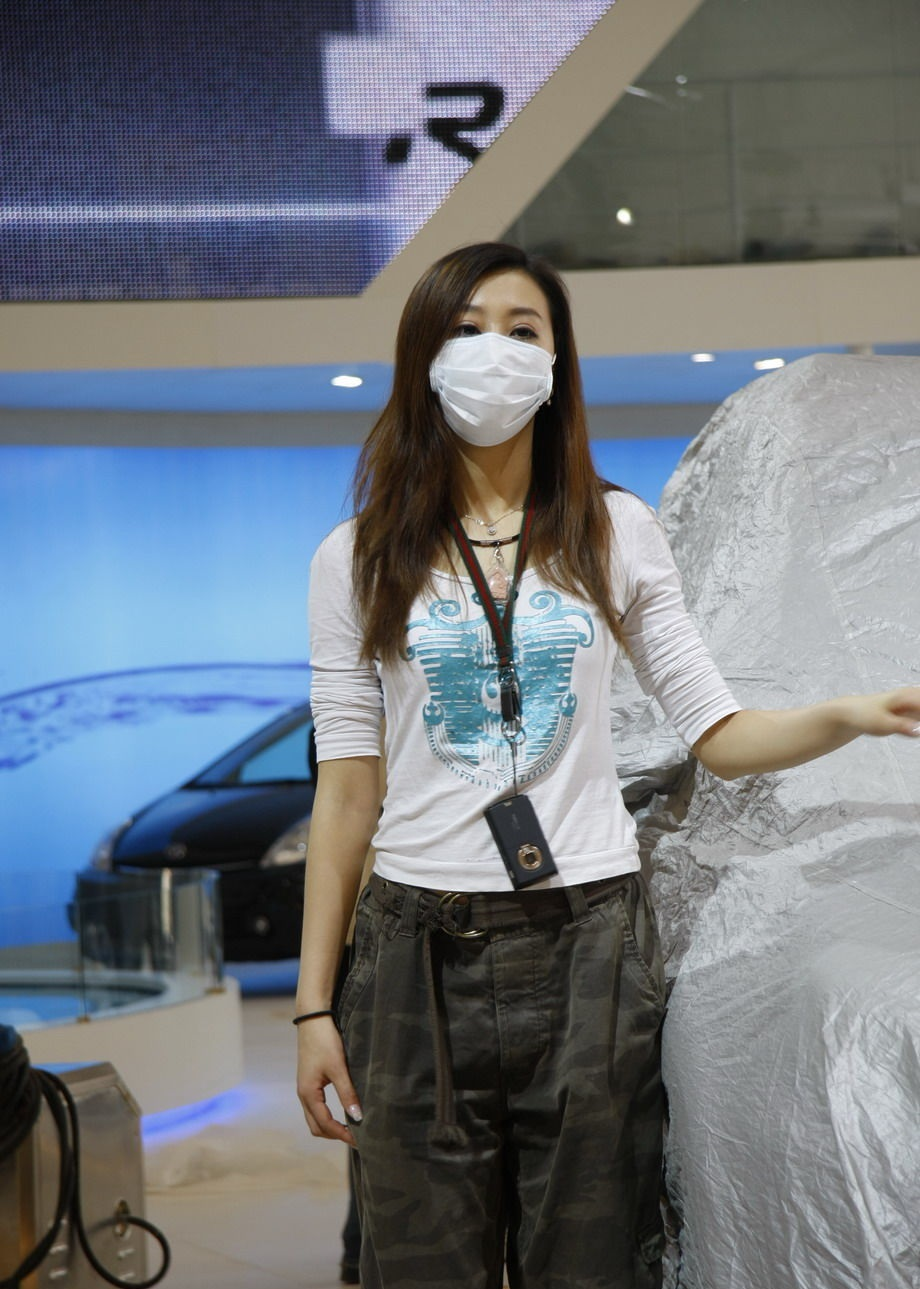face_mask: (439, 264, 550, 443)
